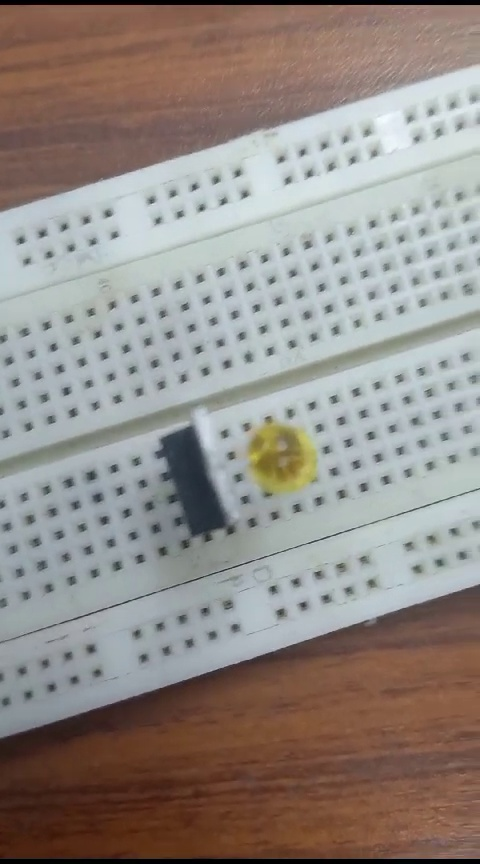LED: (247, 421, 320, 492)
voltage regulator: (154, 408, 232, 548)
